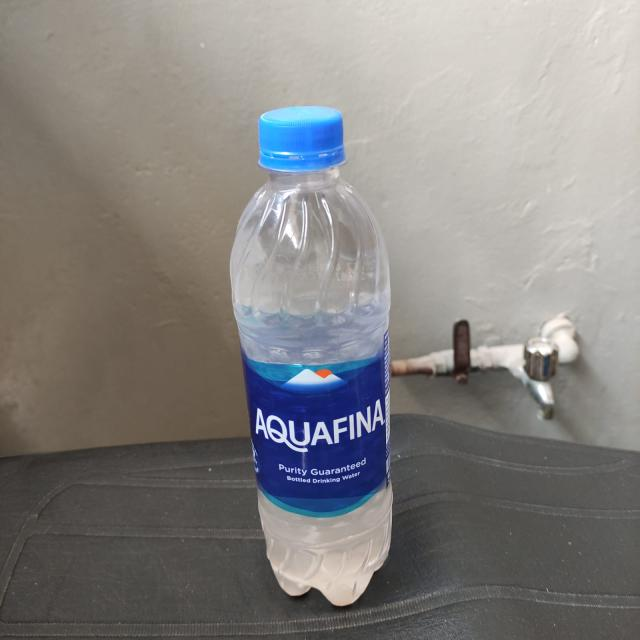bottle: (223, 103, 403, 608)
cap: (257, 104, 352, 170)
label: (247, 355, 400, 509)
